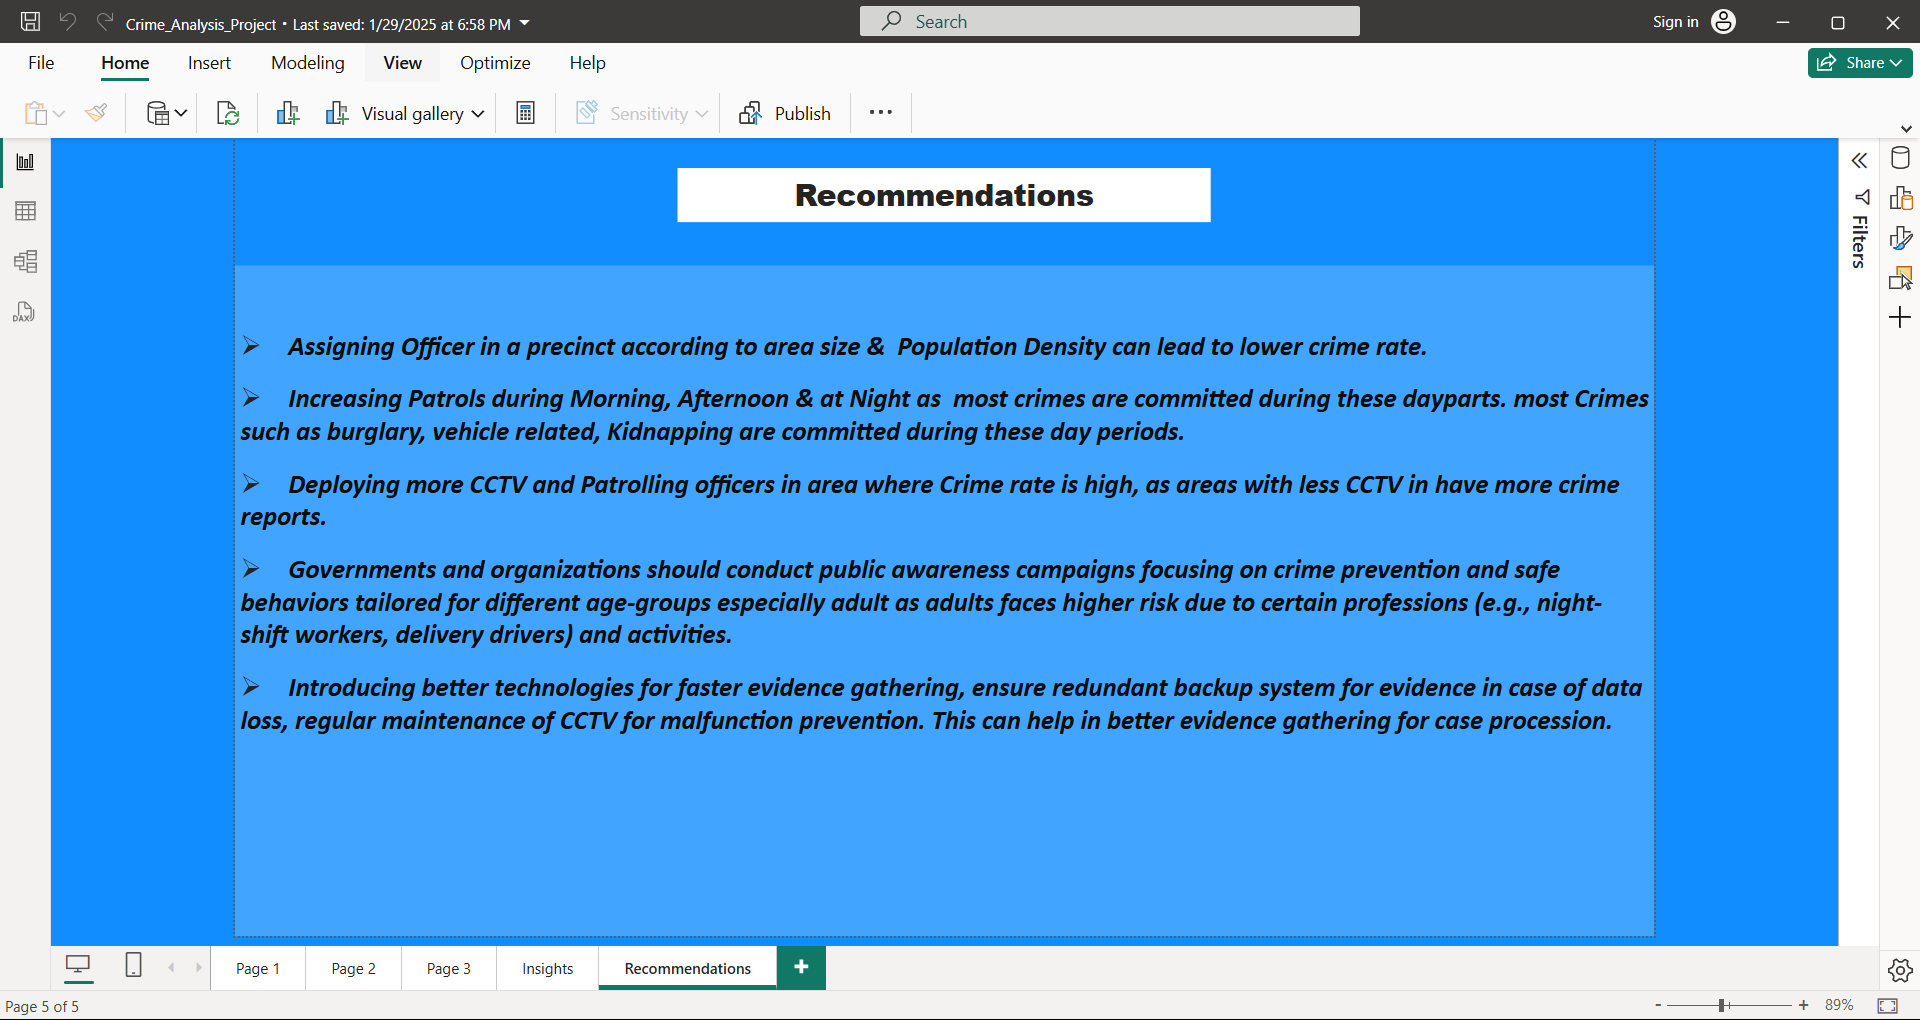

The dashboard page shown, as its layout file describes it:
{"tool":"powerbi","page":{"name":"Recommendations","canvas":[1280,720],"ordinal":4},"visuals":[{"type":"textbox","box":[0,114.9,1280.3,605.3],"z":0},{"type":"textbox","box":[398.6,26.9,480.6,48.9],"z":1000}]}

Visuals, with their boxes on the page's 1280x720 design canvas (x1, y1, x2, y2). These are canvas units, not pixel positions in the 1920x1020 screenshot, which may show the page scaled, cropped or inside an application window:
textbox: BBox(0, 115, 1280, 720)
textbox: BBox(399, 27, 879, 76)
